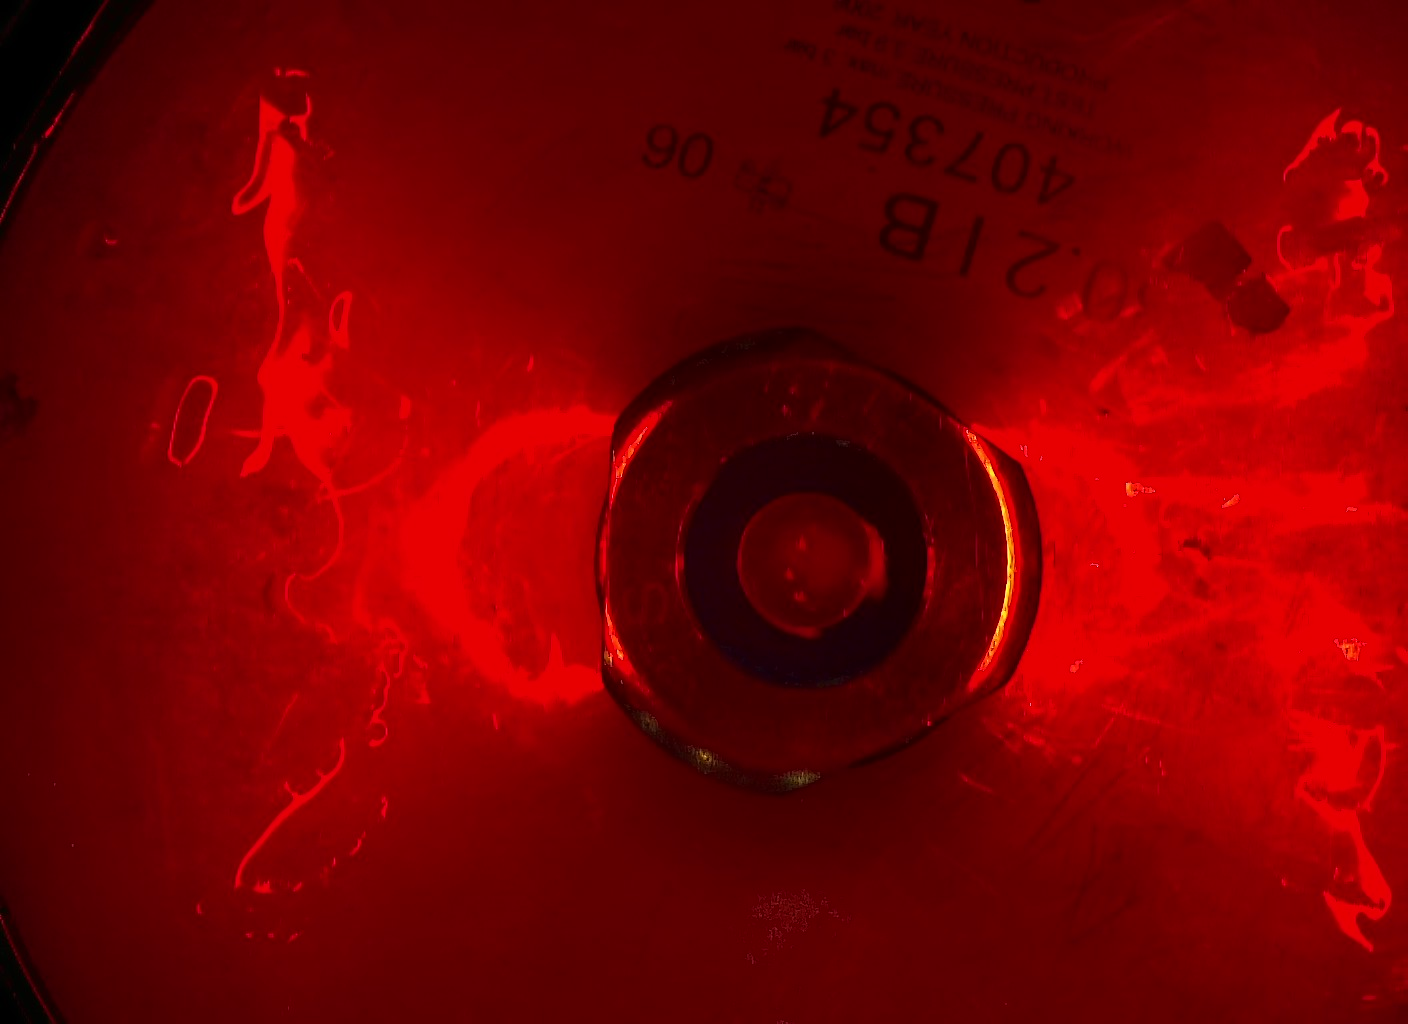pena: (850, 501, 897, 624)
